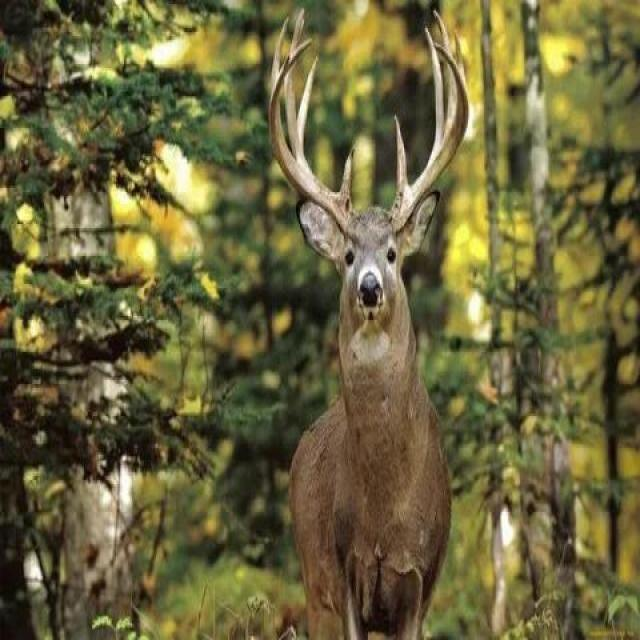deer: (262, 78, 534, 638)
